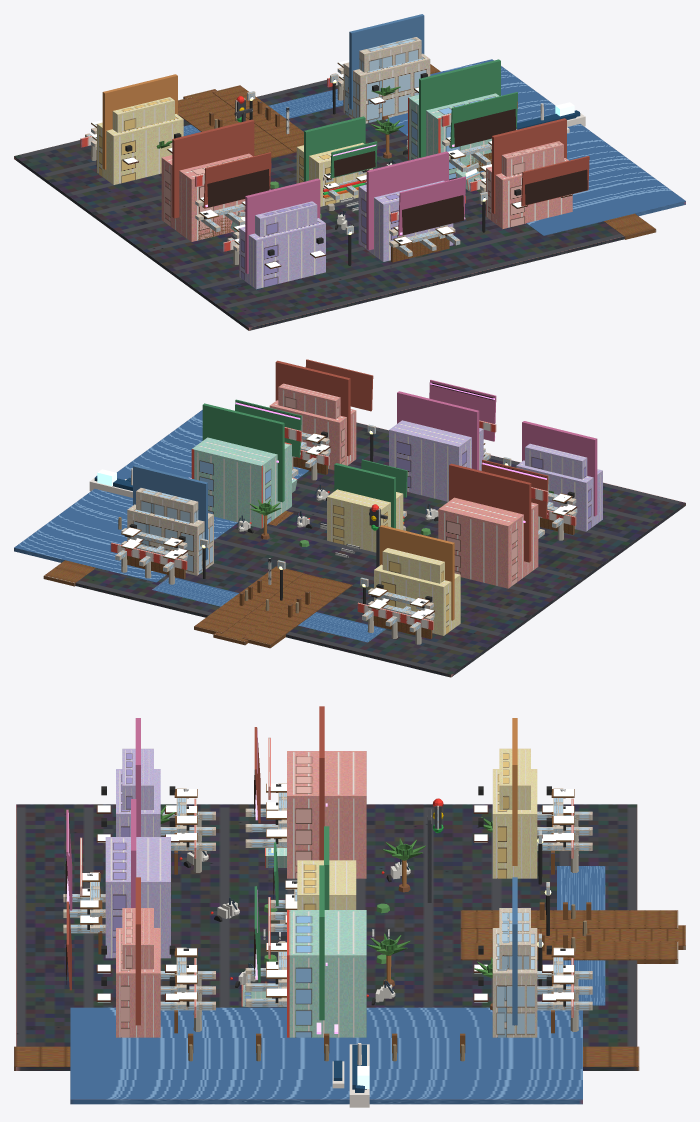
The model's file is city.glb.
The picture shows the model from 3 angles, top to bottom: view 1: azimuth 30°, elevation 25°; view 2: azimuth 150°, elevation 25°; view 3: azimuth 270°, elevation 25°; orthographic projection. The views are drawn at different scales.
Visible parts, largest first — view 1: walls, ground, props, sign_face_claw, sign_face_arcade, sign_face_bubble, sign_face_claw_frame, sign_face_snack, sign_face_bubble_frame, sign_face_arcade_frame, sign_face_snack_frame, sign_face_711 (+1 smaller); view 2: walls, ground, props, sign_face_claw_frame, sign_face_snack_frame, sign_face_arcade_frame, sign_face_bubble_frame, sign_face_711_frame; view 3: ground, walls, props.
Boxes of the visible parts, left/top/right/bottom form: walls: left=80, top=14, right=572, bottom=289; ground: left=14, top=59, right=685, bottom=330; props: left=91, top=64, right=585, bottom=265; sign_face_claw: left=402, top=195, right=464, bottom=235; sign_face_arcade: left=207, top=169, right=269, bottom=207; sign_face_bubble: left=454, top=109, right=516, bottom=147; sign_face_claw_frame: left=398, top=176, right=465, bottom=236; sign_face_snack: left=525, top=169, right=587, bottom=204; sign_face_bubble_frame: left=450, top=92, right=517, bottom=148; sign_face_arcade_frame: left=203, top=152, right=271, bottom=208; sign_face_snack_frame: left=521, top=156, right=589, bottom=206; sign_face_711: left=334, top=151, right=375, bottom=176; walls: left=110, top=360, right=602, bottom=639; ground: left=14, top=410, right=685, bottom=677; props: left=89, top=424, right=574, bottom=644; sign_face_claw_frame: left=429, top=380, right=496, bottom=441; sign_face_snack_frame: left=305, top=359, right=373, bottom=411; sign_face_arcade_frame: left=481, top=460, right=548, bottom=517; sign_face_bubble_frame: left=235, top=399, right=301, bottom=457; sign_face_711_frame: left=361, top=459, right=407, bottom=497; ground: left=14, top=804, right=685, bottom=1104; walls: left=63, top=706, right=592, bottom=1053; props: left=87, top=784, right=587, bottom=1107.
Bounding box in the file's own units: 18.2 × 4.67 × 17.3.
Materials: 40 (14 with a texture image).
